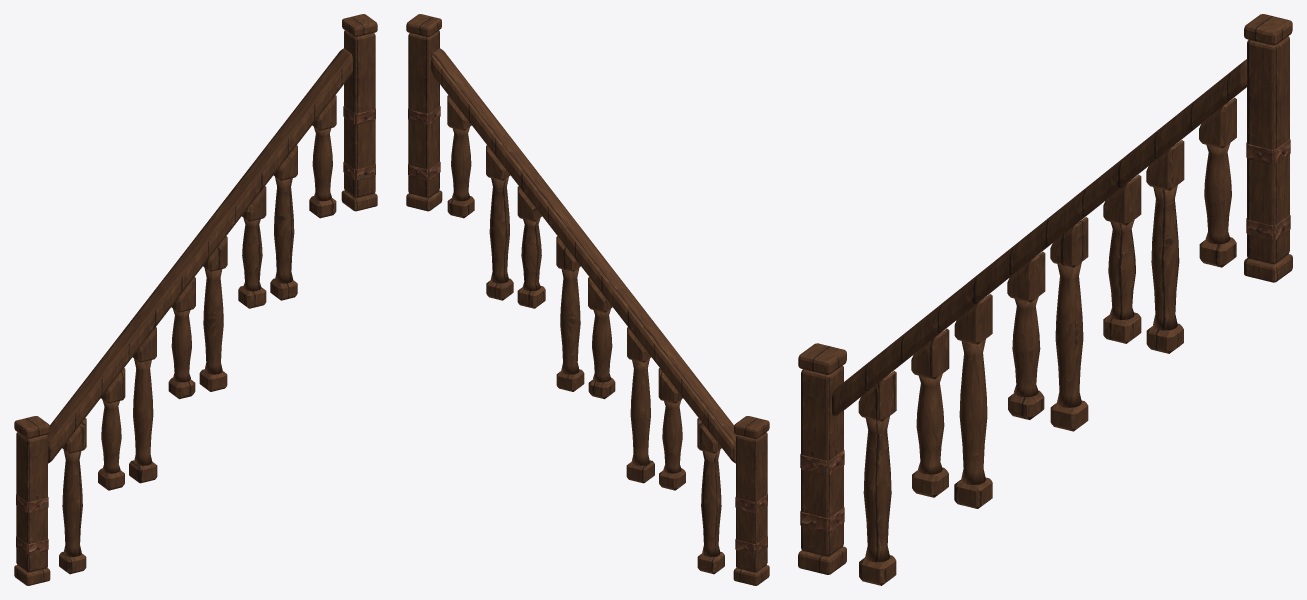
File: railing_stairs__cut_stone.glb
3 views of the same model, side by side, from view 1: azimuth 30°, elevation 25°; view 2: azimuth 150°, elevation 25°; view 3: azimuth 330°, elevation 25° (orthographic). The views are drawn at different scales.
Visible parts, largest first — view 1: model; view 2: model; view 3: model.
Part boxes in pixels (left/top/right/bottom): model: left=14, top=14, right=377, bottom=585; model: left=406, top=14, right=769, bottom=585; model: left=798, top=14, right=1292, bottom=585.
Bounding box in the file's own units: 1.99 × 2.58 × 0.1389.
Materials: 3 (3 with a texture image).
